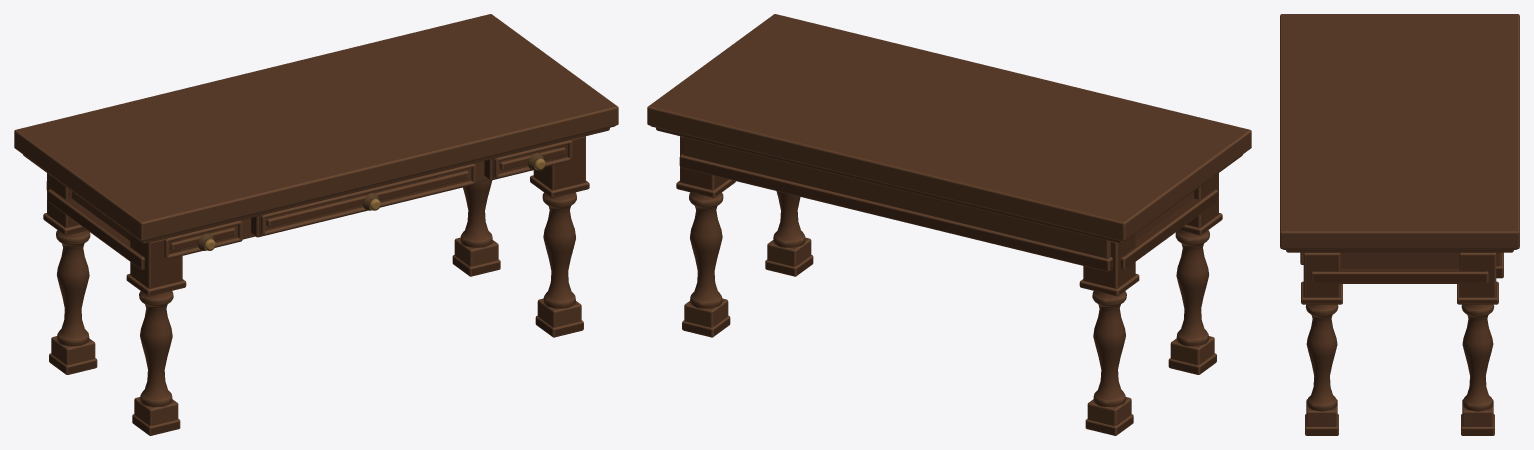
The model's file is ReadingDesk_v1.fbx.
3 views of the same model, side by side, from view 1: azimuth 30°, elevation 25°; view 2: azimuth 150°, elevation 25°; view 3: azimuth 270°, elevation 25° (orthographic). The views are drawn at different scales.
Parts seen in each view (by area): view 1: ReadingDesk; view 2: ReadingDesk; view 3: ReadingDesk.
Boxes of the visible parts, box(x1,y1,x2,y2) form: ReadingDesk: box(14, 14, 618, 435); ReadingDesk: box(647, 14, 1251, 435); ReadingDesk: box(1280, 14, 1519, 435).
Size of the model in its own units: 1.64 by 0.75 by 0.76.
